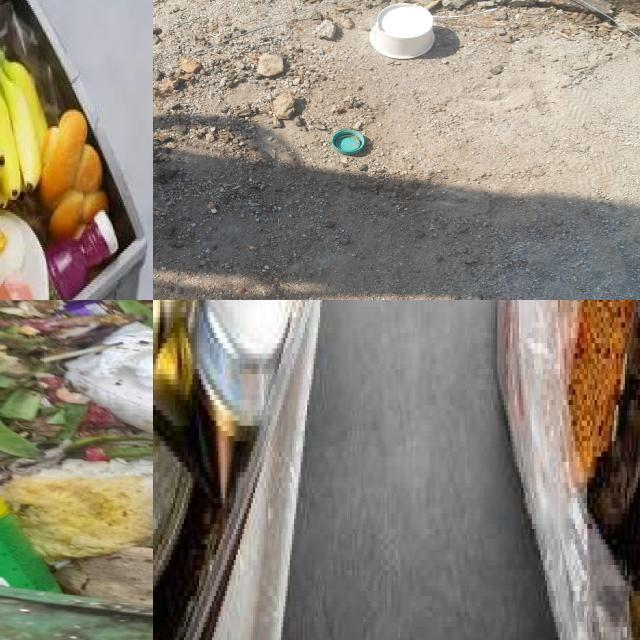Background: (153, 0, 640, 300)
Garbage: (153, 300, 295, 640), (0, 300, 153, 606)
Metal: (153, 300, 295, 582)
Plastic: (331, 129, 365, 155)
contaminated_waste: (187, 300, 295, 427), (5, 211, 46, 300)
